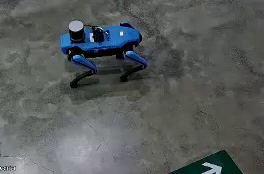robot dog: (55, 18, 151, 96)
